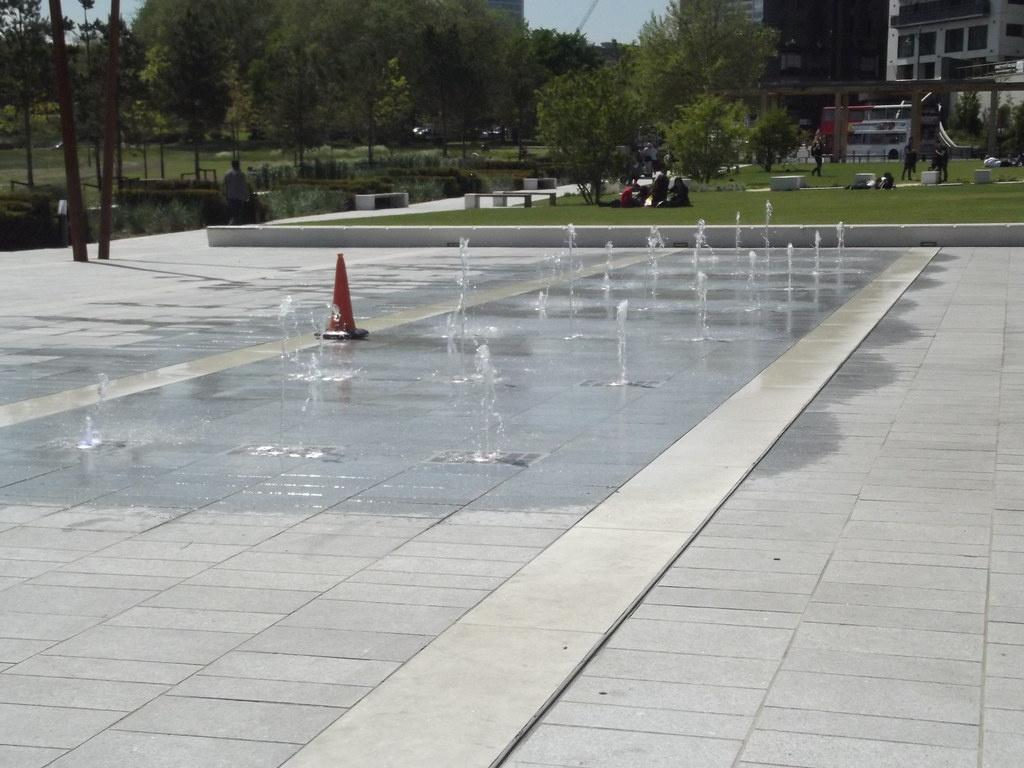water accumulation: (0, 243, 959, 513)
